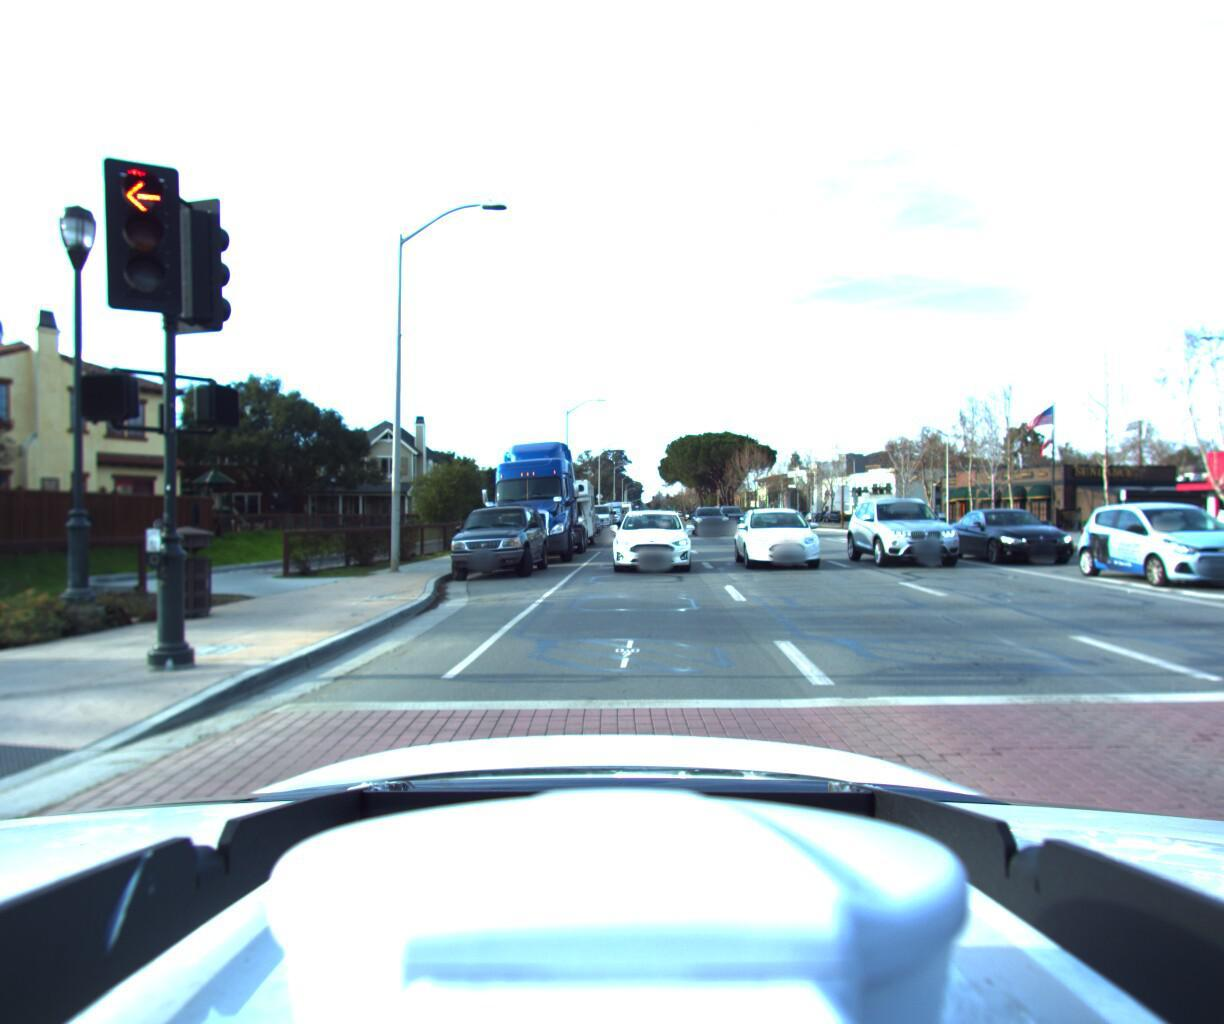car: (1065, 497, 1224, 585), (854, 491, 989, 573), (436, 497, 551, 580), (729, 502, 834, 573), (606, 506, 692, 578), (1113, 505, 1208, 534), (692, 505, 733, 537), (708, 506, 741, 530), (584, 502, 613, 529), (572, 511, 604, 536), (589, 499, 613, 520)
other_vehicle: (519, 469, 602, 548)
truck: (462, 426, 585, 564)
